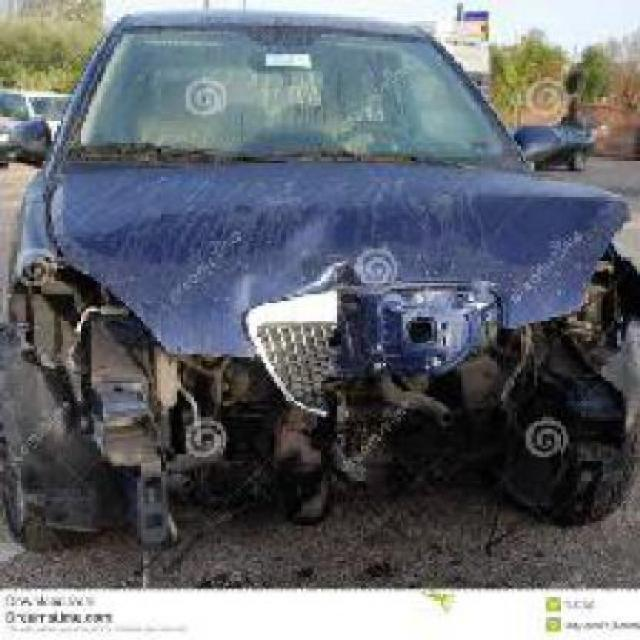damaged-front-bumper: (23, 349, 620, 506)
damaged-hood: (52, 160, 634, 342)
